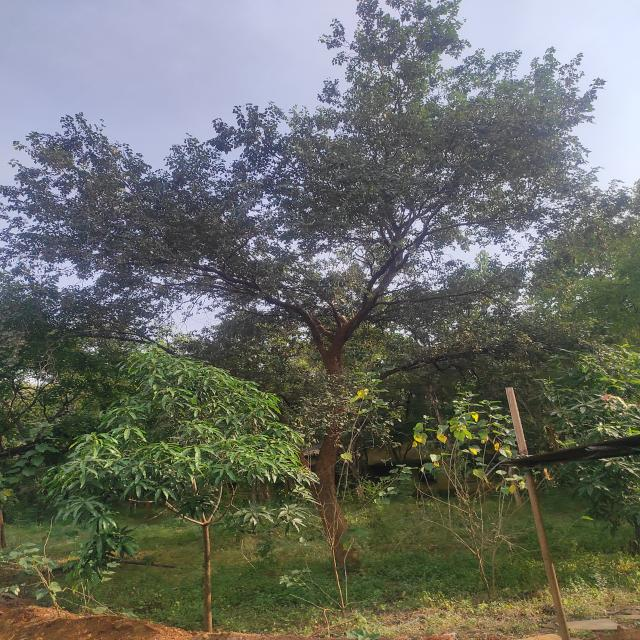Devakanchan tree: (70, 58, 547, 370)
Mango Tree: (61, 366, 315, 513), (568, 399, 640, 507)
